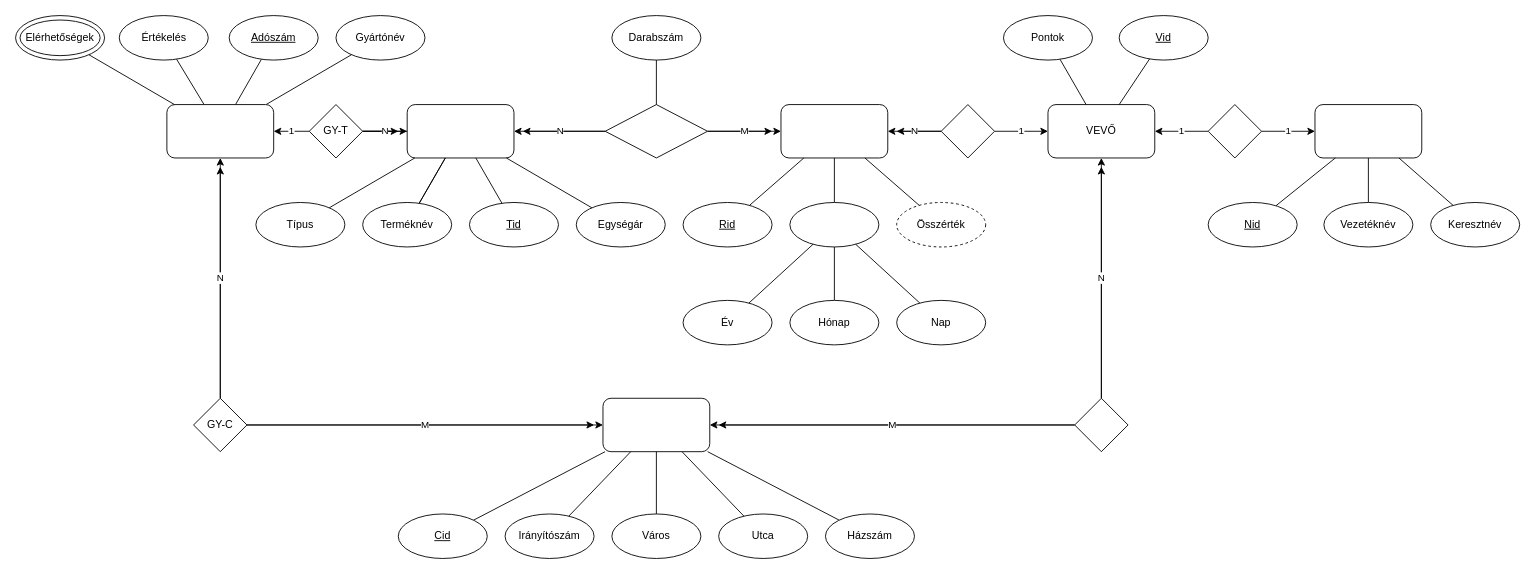
Some shapes in this 1535 by 574 pixel diagram are drawn without their labels. Here are the shapes that lost their labels. From the top down, the centre of each, then its label:
the point at 220,131: GYÁRTÓ
the point at 460,131: TERMÉK
the point at 656,131: Tartalmazza
the point at 834,131: RENDELÉS
the point at 967,131: R-V
the point at 1234,131: V-N
the point at 1368,131: NÉV
the point at 834,224: Dátum
the point at 656,424: CÍM
the point at 1101,424: V-C
